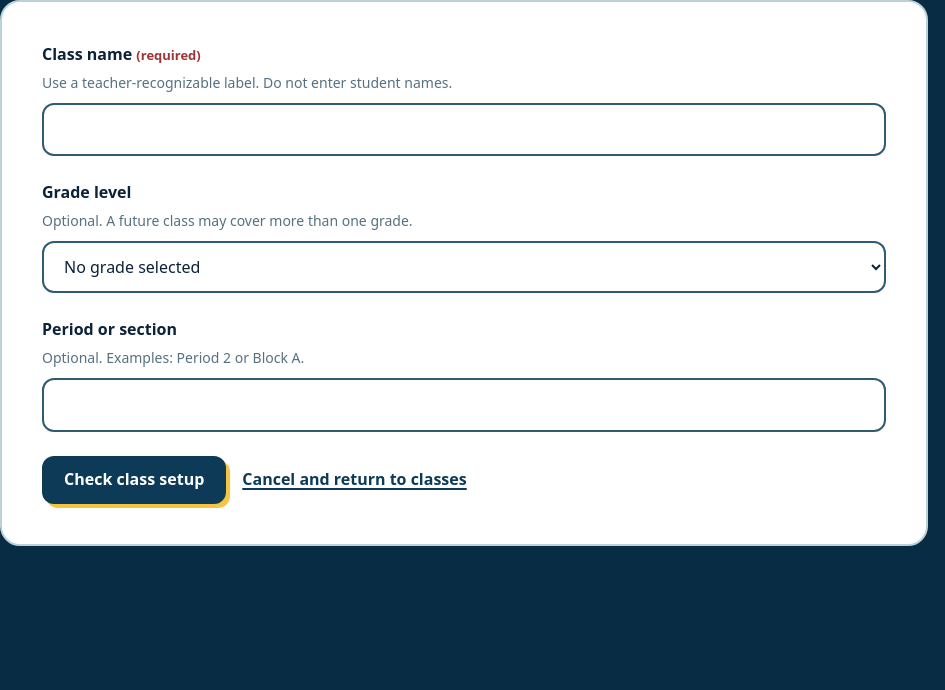
Test: teacher workflow prototype forms › validates a class setup without implying that it was saved
Step 1. Type "Math Language Lab" into the field labelled "Class name (required)" → (464, 130), box [42,103,886,156]
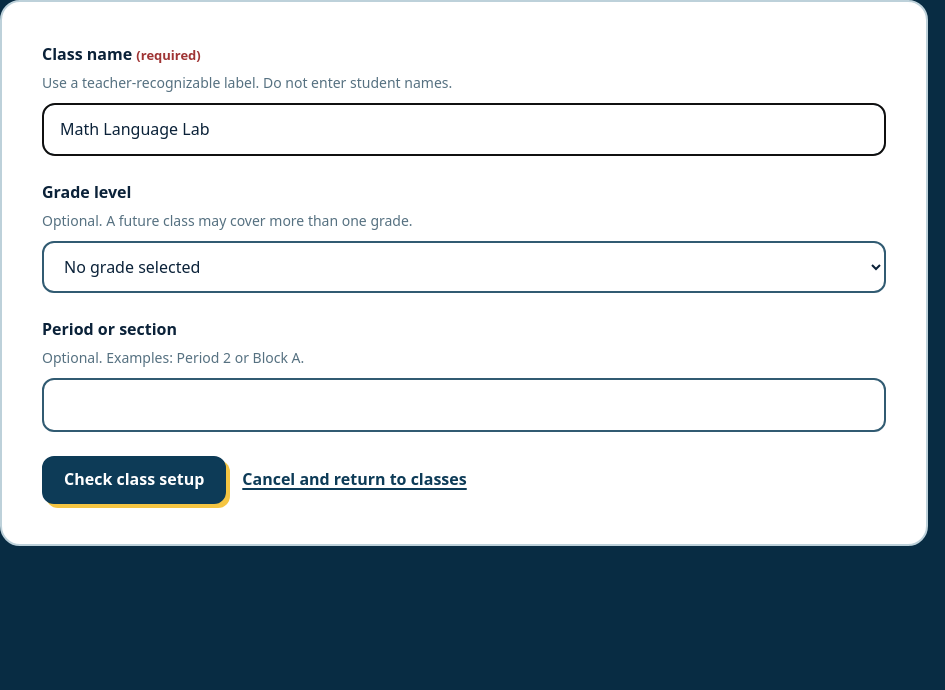
Step 2. Click the button "Check class setup" → (134, 480), box [42,456,226,504]
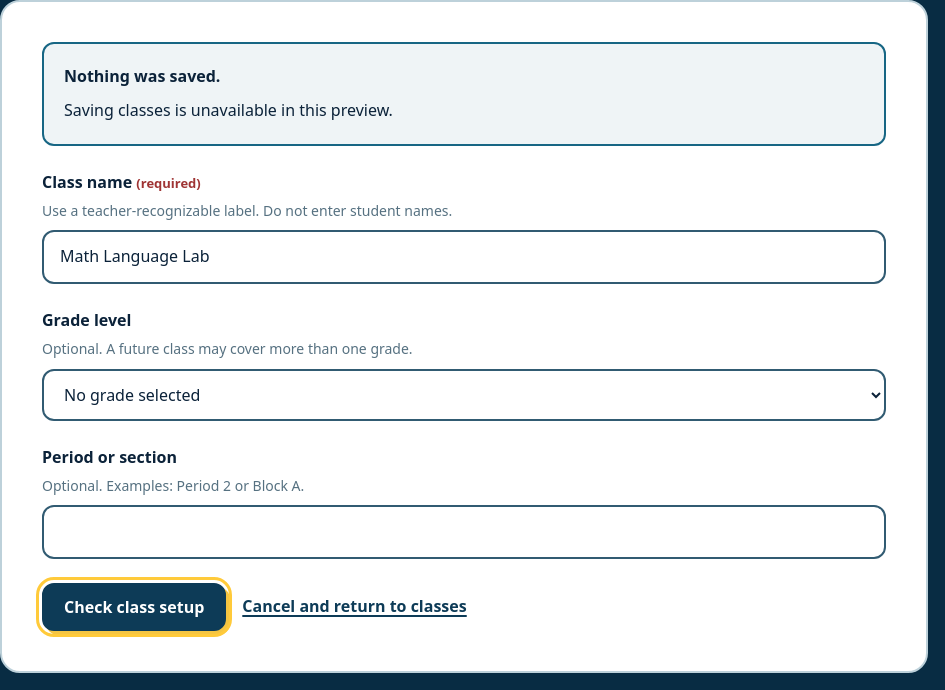
Now the text "Nothing was saved." is shown, box [64,65,220,87]
